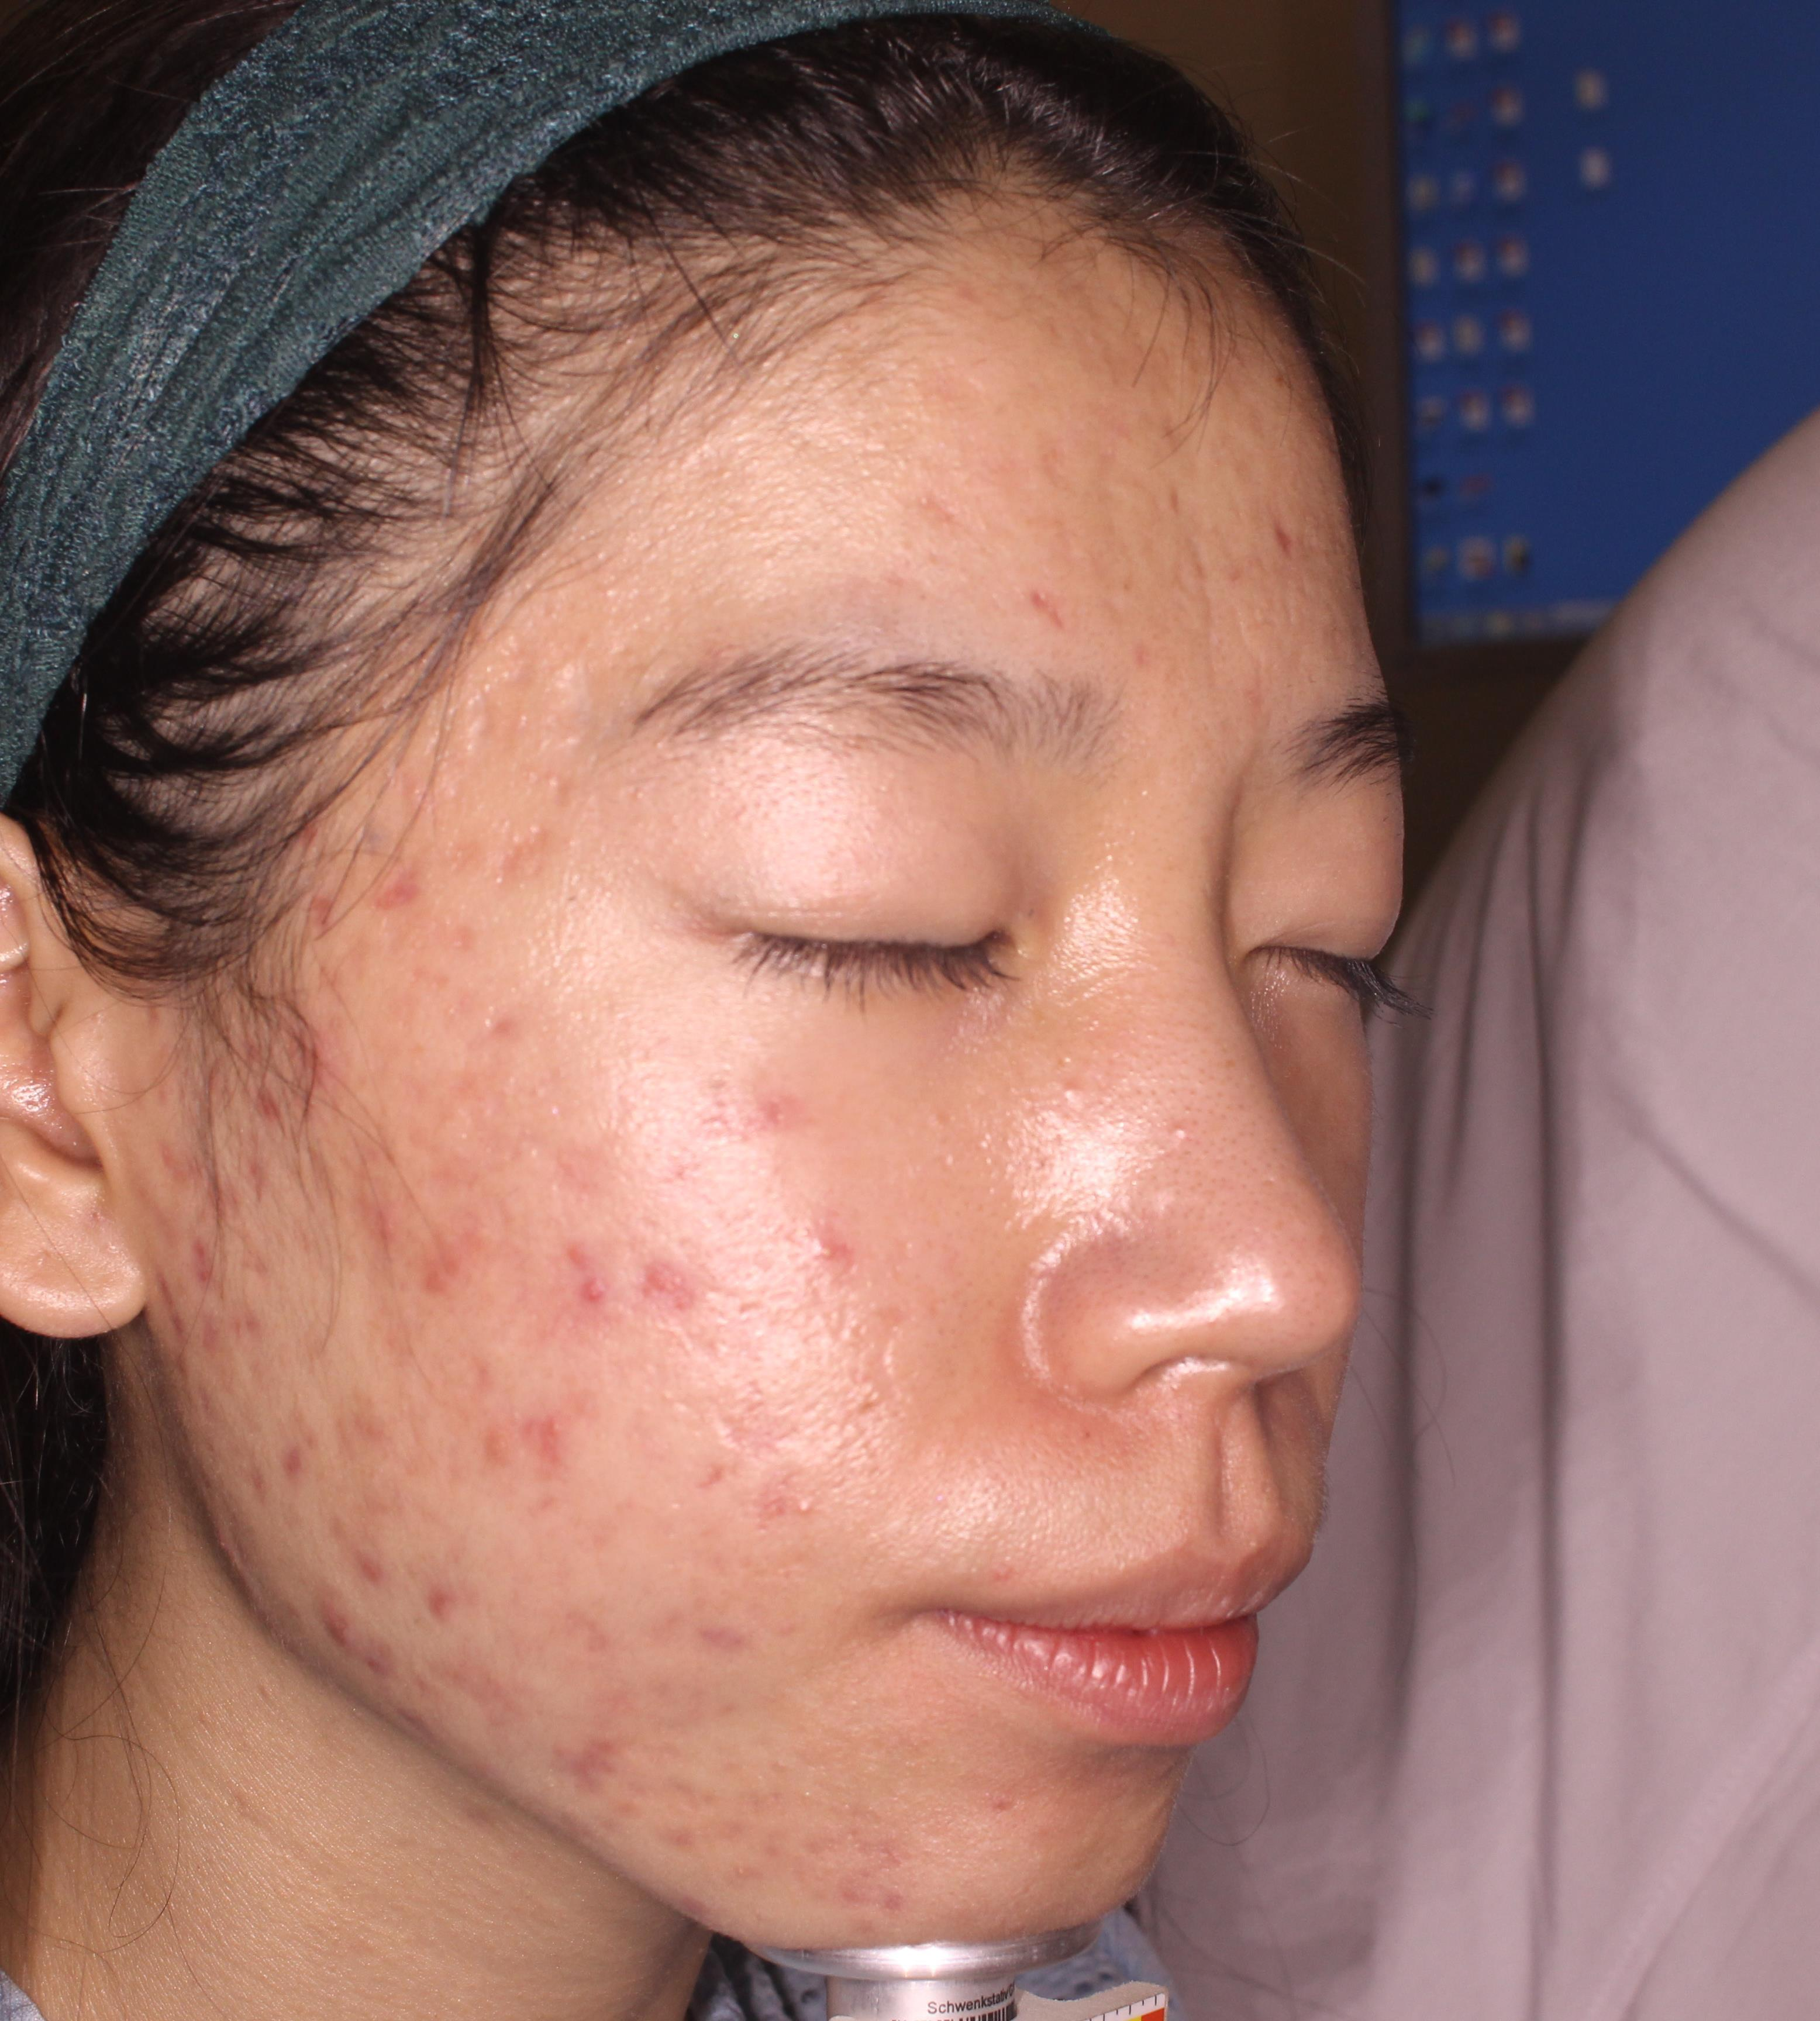fore: (401, 1185, 494, 1338), (987, 567, 1100, 676), (516, 1401, 629, 1508), (539, 1208, 632, 1334), (638, 1196, 704, 1343), (260, 1396, 337, 1505), (736, 1450, 817, 1554), (829, 1854, 933, 1930), (355, 838, 453, 917), (1219, 483, 1300, 576), (430, 1652, 525, 1728), (664, 1608, 771, 1675), (271, 1008, 351, 1087), (351, 1185, 418, 1280), (332, 1487, 392, 1586), (571, 1701, 632, 1794), (401, 1557, 476, 1626), (750, 1055, 817, 1133), (221, 1136, 292, 1205), (785, 1222, 857, 1289), (167, 1222, 221, 1306), (467, 1419, 539, 1482), (351, 1626, 418, 1687), (311, 1580, 372, 1643), (337, 1406, 401, 1456), (234, 1280, 271, 1356), (311, 881, 346, 957)
